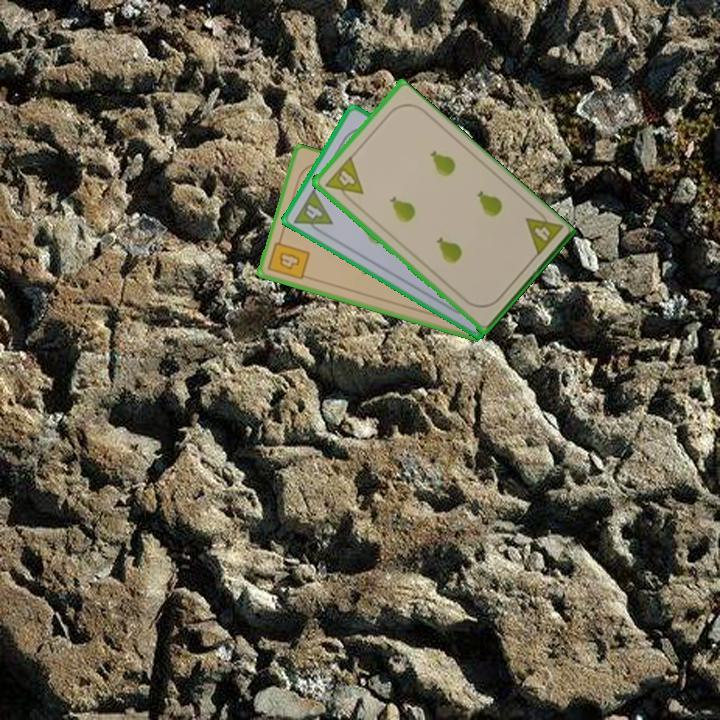4b: (264, 232, 313, 283)
4p: (521, 204, 565, 260), (290, 185, 335, 239), (321, 153, 366, 206)
